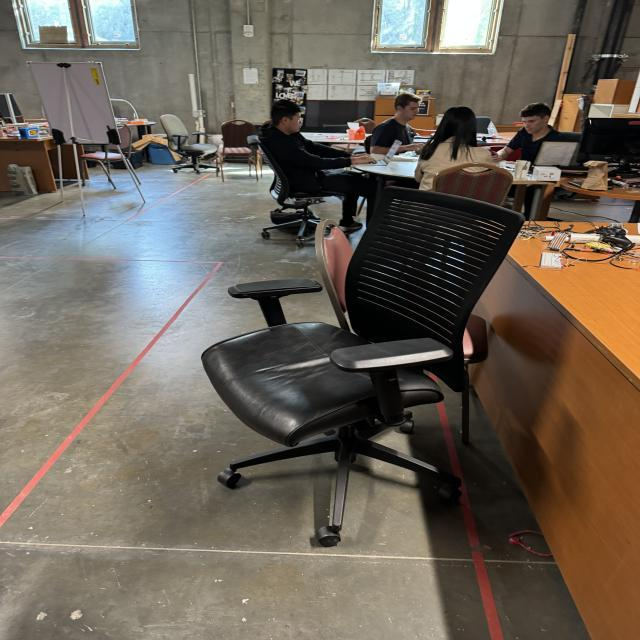chair: (208, 184, 530, 552)
